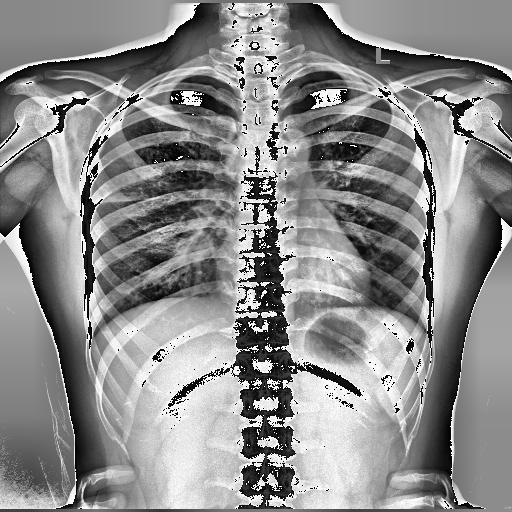13- Pulmonary fibrosis: (99, 190, 152, 202), (96, 192, 136, 204)
7- Lung Opacity: (96, 192, 136, 204)
9- Other lesion: (99, 190, 152, 202), (100, 191, 152, 203)
